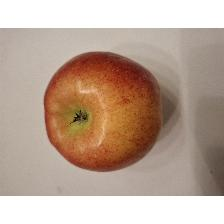Apfel: (40, 48, 166, 176)
